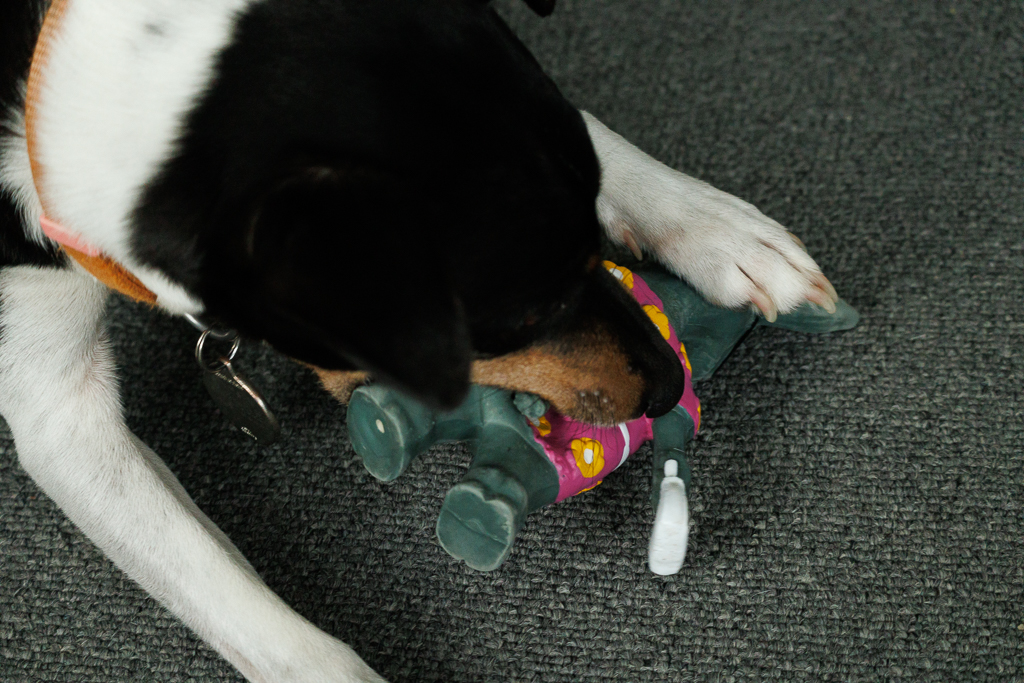Dog: (0, 0, 848, 683)
Humanoid: (322, 217, 892, 592)
